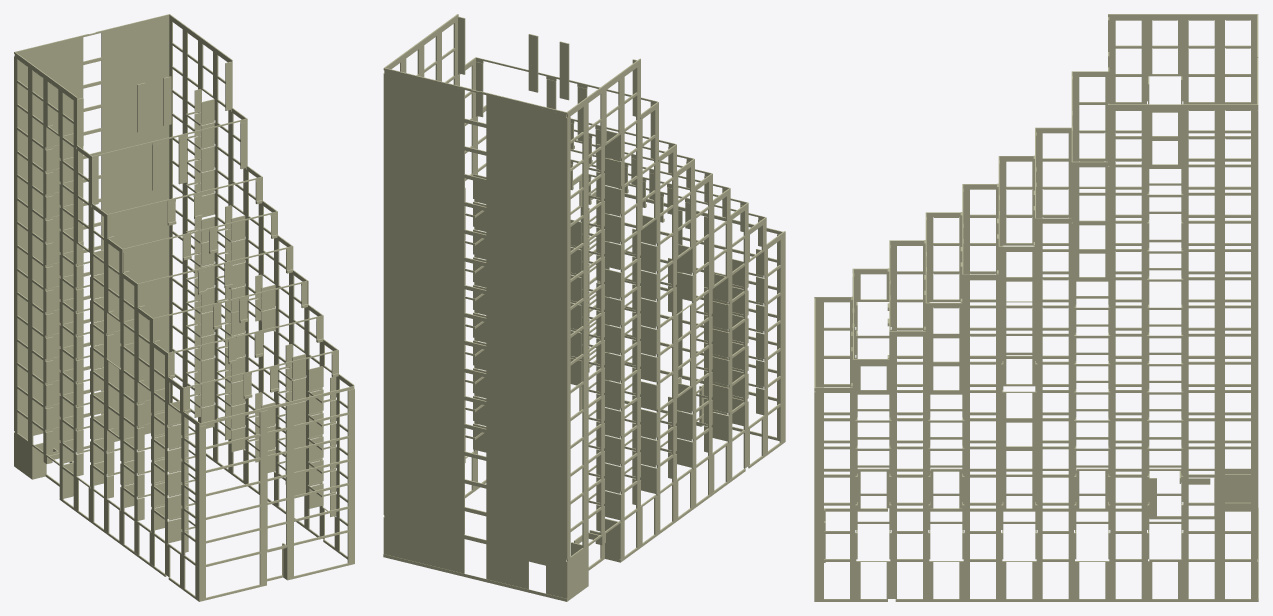
File: sixty5-architectural-insulation-final.glb
3 views of the same model, side by side, from view 1: azimuth 30°, elevation 25°; view 2: azimuth 150°, elevation 25°; view 3: azimuth 270°, elevation 25° (orthographic). The views are drawn at different scales.
Visible parts, largest first — view 1: IfcWall/21_Wall_DD-spouwisolatie .1031, IfcWall/21_Wall_DD-spouwisolatie .1029, IfcWall/21_Wall_DD-spouwisolatie .1030, IfcWall/21_Wall_DD-spouwisolatie .992, IfcWall/21_Wall_DD-spouwisolatie .797, IfcWall/21_Wall_DD-spouwisolatie .769, IfcWall/21_Wall_DD-spouwisolatie .893, IfcWall/21_Wall_DD-spouwisolatie .823, IfcWall/21_Wall_DD-spouwisolatie .711, IfcWall/21_Wall_DD-spouwisolatie .943, IfcWall/21_Wall_DD-spouwisolatie .1006, IfcWall/21_Wall_DD-spouwisolatie .539 (+23 smaller); view 2: IfcWall/21_Wall_DD-spouwisolatie.071, IfcWall/21_Wall_DD-spouwisolatie .1031, IfcWall/21_Wall_DD-spouwisolatie .1030, IfcWall/21_Wall_DD-spouwisolatie .711, IfcWall/21_Wall_DD-spouwisolatie .035, IfcWall/21_Wall_DD-spouwisolatie .260, IfcWall/21_Wall_DD-spouwisolatie .262, IfcWall/21_Wall_DD-spouwisolatie .541, IfcWall/21_Wall_DD-spouwisolatie .710, IfcWall/21_Wall_DD-spouwisolatie .768, IfcWall/21_Wall_DD-spouwisolatie .769, IfcWall/21_Wall_DD-spouwisolatie .823 (+26 smaller); view 3: IfcWall/21_Wall_DD-spouwisolatie, IfcWall/21_Wall_DD-spouwisolatie.335, IfcWall/21_Wall_DD-spouwisolatie.334, IfcWall/21_Wall_DD-spouwisolatie.073, IfcWall/21_Wall_DD-spouwisolatie.002.
Part boxes in pixels (box(x1,y1,x2,y2)): IfcWall/21_Wall_DD-spouwisolatie .1031: box(101, 16, 169, 56); IfcWall/21_Wall_DD-spouwisolatie .1029: box(101, 41, 169, 80); IfcWall/21_Wall_DD-spouwisolatie .1030: box(14, 37, 83, 77); IfcWall/21_Wall_DD-spouwisolatie .992: box(101, 64, 169, 103); IfcWall/21_Wall_DD-spouwisolatie .797: box(101, 158, 169, 198); IfcWall/21_Wall_DD-spouwisolatie .769: box(101, 182, 169, 221); IfcWall/21_Wall_DD-spouwisolatie .893: box(101, 113, 169, 150); IfcWall/21_Wall_DD-spouwisolatie .823: box(101, 135, 169, 174); IfcWall/21_Wall_DD-spouwisolatie .711: box(101, 206, 169, 245); IfcWall/21_Wall_DD-spouwisolatie .943: box(101, 89, 163, 127); IfcWall/21_Wall_DD-spouwisolatie .1006: box(14, 62, 83, 101); IfcWall/21_Wall_DD-spouwisolatie .539: box(101, 229, 169, 266); IfcWall/21_Wall_DD-spouwisolatie.071: box(384, 515, 464, 573); IfcWall/21_Wall_DD-spouwisolatie .1031: box(383, 70, 464, 118); IfcWall/21_Wall_DD-spouwisolatie .1030: box(486, 95, 567, 143); IfcWall/21_Wall_DD-spouwisolatie .711: box(383, 293, 464, 340); IfcWall/21_Wall_DD-spouwisolatie .035: box(383, 487, 464, 534); IfcWall/21_Wall_DD-spouwisolatie .260: box(383, 404, 464, 451); IfcWall/21_Wall_DD-spouwisolatie .262: box(486, 429, 567, 476); IfcWall/21_Wall_DD-spouwisolatie .541: box(486, 346, 567, 393); IfcWall/21_Wall_DD-spouwisolatie .710: box(486, 318, 567, 365); IfcWall/21_Wall_DD-spouwisolatie .768: box(486, 290, 567, 337); IfcWall/21_Wall_DD-spouwisolatie .769: box(383, 265, 464, 312); IfcWall/21_Wall_DD-spouwisolatie .823: box(383, 210, 464, 257); IfcWall/21_Wall_DD-spouwisolatie: box(895, 599, 1257, 601); IfcWall/21_Wall_DD-spouwisolatie.335: box(1108, 104, 1256, 110); IfcWall/21_Wall_DD-spouwisolatie.334: box(1108, 14, 1256, 19); IfcWall/21_Wall_DD-spouwisolatie.073: box(1225, 471, 1250, 508); IfcWall/21_Wall_DD-spouwisolatie.002: box(897, 508, 1141, 511).
Bounding box in the file's own units: 22.18 × 56.4 × 45.7.
